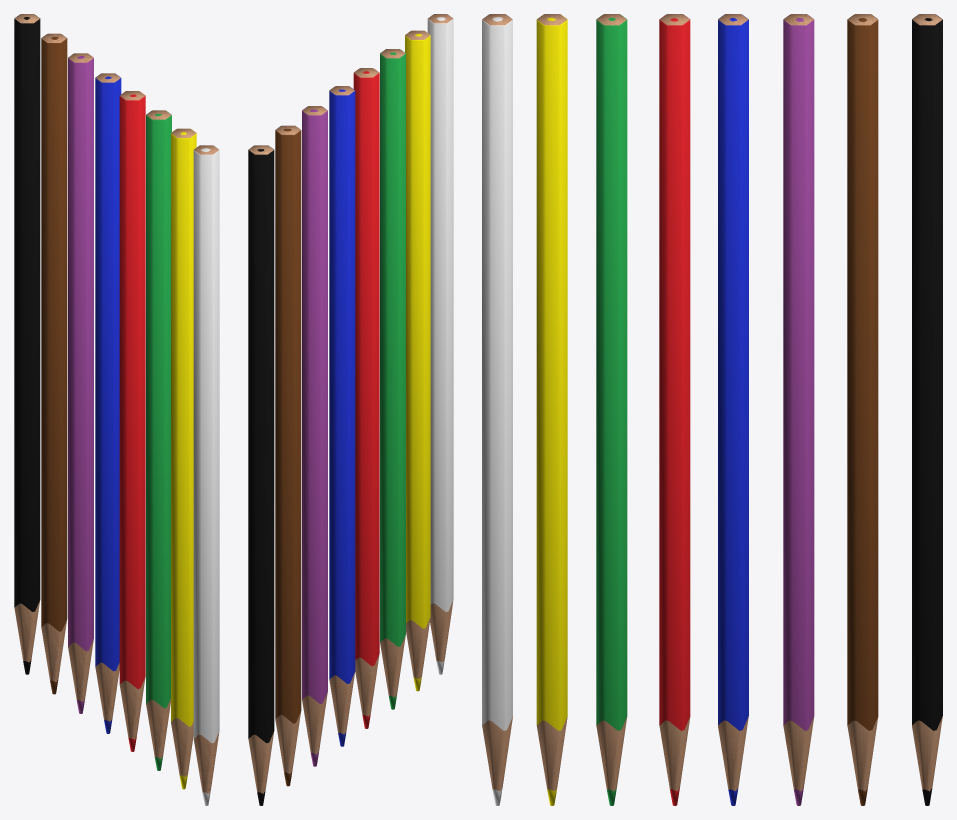
Rendered from Pencils set new.fbx.
3 renders of one model, left to right at view 1: azimuth 30°, elevation 25°; view 2: azimuth 150°, elevation 25°; view 3: azimuth 270°, elevation 25°, orthographic. The views are drawn at different scales.
Visible parts, largest first — view 1: Circle.005, Circle.006, Circle.001, Circle.002, Circle.007, Circle.003, Circle.004, Circle; view 2: Circle.005, Circle.002, Circle.003, Circle.007, Circle.004, Circle.001, Circle, Circle.006; view 3: Circle, Circle.001, Circle.004, Circle.007, Circle.005, Circle.006, Circle.003, Circle.002.
Boxes of the visible parts, left/top/right/bottom form: Circle.005: left=41, top=33, right=67, bottom=694; Circle.006: left=193, top=145, right=219, bottom=805; Circle.001: left=119, top=91, right=145, bottom=751; Circle.002: left=14, top=14, right=40, bottom=674; Circle.007: left=68, top=53, right=93, bottom=713; Circle.003: left=95, top=73, right=121, bottom=733; Circle.004: left=146, top=110, right=171, bottom=770; Circle: left=171, top=128, right=196, bottom=789; Circle.005: left=275, top=125, right=301, bottom=786; Circle.002: left=248, top=145, right=274, bottom=805; Circle.003: left=329, top=86, right=355, bottom=746; Circle.007: left=302, top=106, right=327, bottom=766; Circle.004: left=380, top=49, right=405, bottom=709; Circle.001: left=353, top=68, right=379, bottom=728; Circle: left=405, top=30, right=430, bottom=691; Circle.006: left=427, top=14, right=453, bottom=674; Circle: left=536, top=14, right=567, bottom=805; Circle.001: left=659, top=14, right=690, bottom=805; Circle.004: left=596, top=14, right=627, bottom=805; Circle.007: left=783, top=14, right=814, bottom=805; Circle.005: left=847, top=14, right=878, bottom=805; Circle.006: left=482, top=14, right=512, bottom=805; Circle.003: left=718, top=14, right=748, bottom=805; Circle.002: left=912, top=14, right=942, bottom=805.
Size of the model in its own units: 5.92 by 179 by 95.08.
